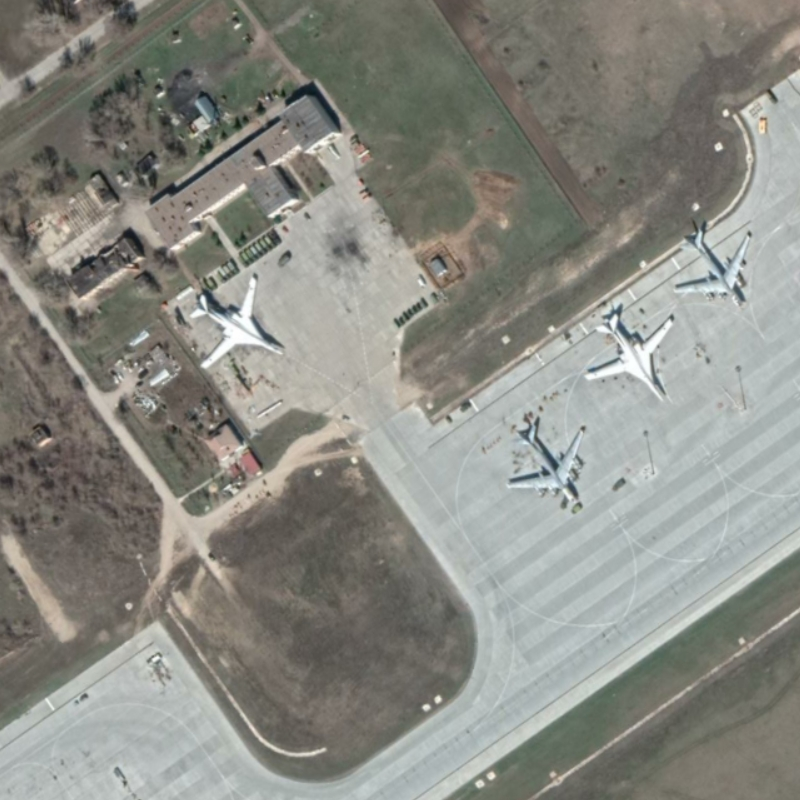A17: (499, 413, 592, 509), (666, 215, 755, 310)
A6: (183, 271, 289, 378), (578, 302, 680, 406)
